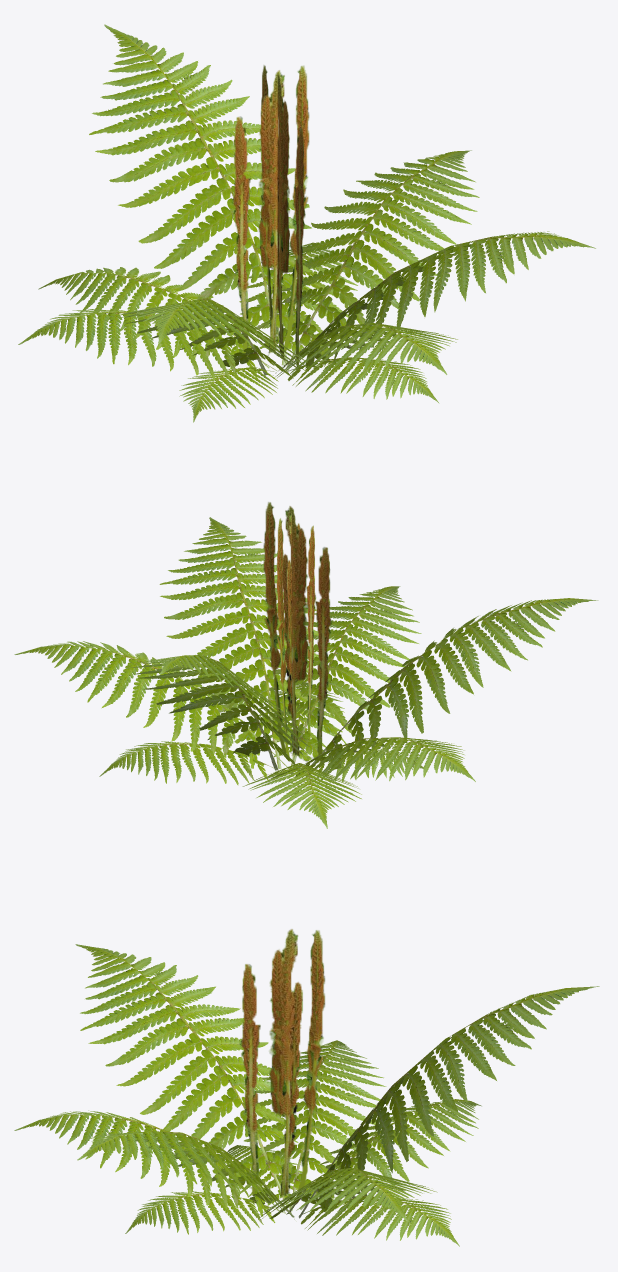
File: Cinnamon_Fern.glb
3 renders of one model, top to bottom at view 1: azimuth 30°, elevation 25°; view 2: azimuth 150°, elevation 25°; view 3: azimuth 270°, elevation 25°, orthographic. The views are drawn at different scales.
Parts seen in each view (by area): view 1: Tree_0, Plane; view 2: Tree_0, Plane; view 3: Tree_0, Plane.
Part boxes in pixels (x1=…): Tree_0: x1=18, y1=24, x2=595, y2=422; Plane: x1=231, y1=65, x2=309, y2=368; Tree_0: x1=14, y1=517, x2=598, y2=828; Plane: x1=263, y1=502, x2=332, y2=761; Tree_0: x1=14, y1=944, x2=599, y2=1246; Plane: x1=239, y1=929, x2=325, y2=1198.
Bounding box in the file's own units: 6.09 × 3.6 × 6.34.
2 materials, 2 textured.
